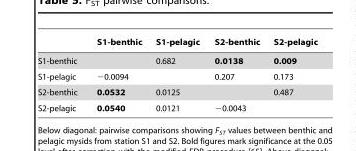table: (37, 37, 316, 112)
table column: (86, 37, 148, 112), (206, 37, 266, 112), (148, 37, 206, 112), (266, 37, 316, 112), (37, 37, 86, 112)
table column header: (37, 37, 316, 51)
table row: (37, 51, 316, 68), (37, 68, 316, 84), (37, 84, 316, 99), (37, 37, 316, 51), (37, 99, 316, 112)
